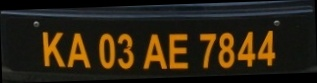character: (142, 33, 167, 70), (40, 30, 64, 68), (67, 31, 91, 69), (166, 32, 189, 68), (236, 30, 256, 68), (97, 30, 115, 71), (257, 29, 275, 67), (198, 33, 217, 68), (217, 32, 235, 67), (117, 33, 134, 69)
